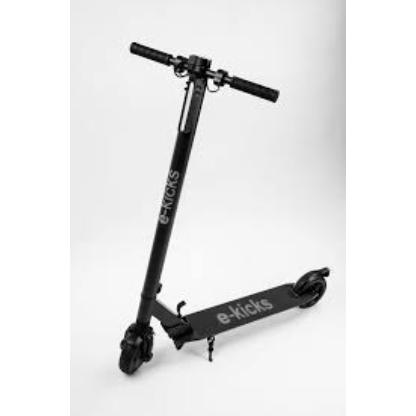bike: (117, 42, 330, 378)
